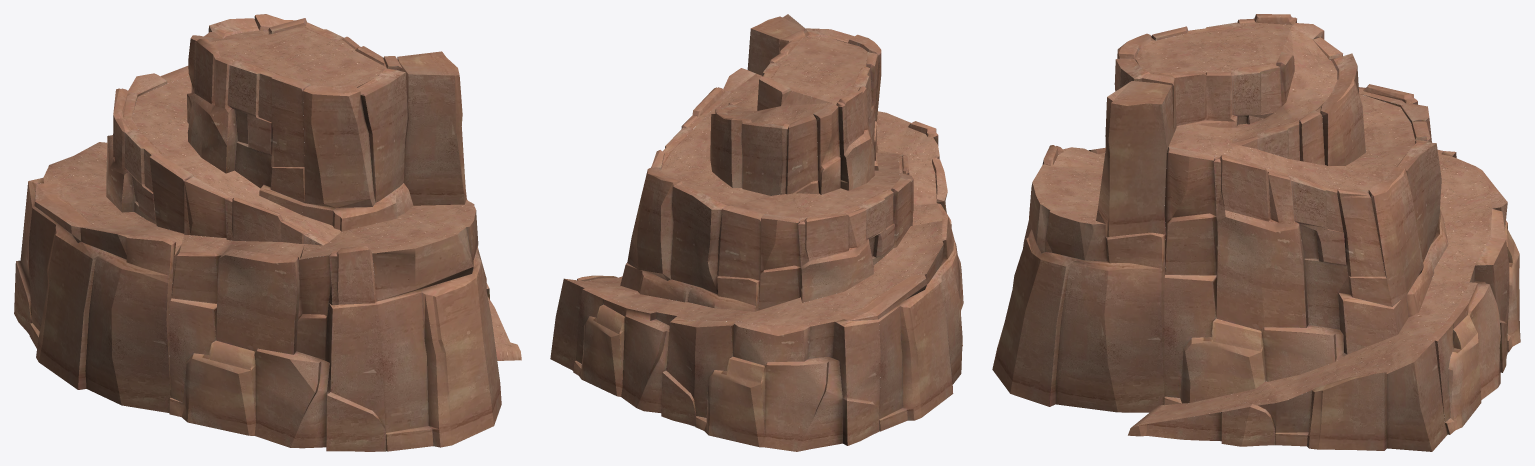
The picture shows the model from 3 angles, left to right: view 1: azimuth 30°, elevation 25°; view 2: azimuth 150°, elevation 25°; view 3: azimuth 270°, elevation 25°; orthographic projection. The views are drawn at different scales.
Parts seen in each view (by area): view 1: body0_model0_lod0_mesh1, body0_model0_lod0_mesh0, body0_model0_lod0_mesh2; view 2: body0_model0_lod0_mesh0, body0_model0_lod0_mesh1, body0_model0_lod0_mesh2; view 3: body0_model0_lod0_mesh0, body0_model0_lod0_mesh1, body0_model0_lod0_mesh2.
Boxes of the visible parts, x1,y1,x2,y2 form: body0_model0_lod0_mesh1: [29, 14, 501, 451]; body0_model0_lod0_mesh0: [14, 18, 489, 451]; body0_model0_lod0_mesh2: [43, 25, 521, 360]; body0_model0_lod0_mesh0: [573, 37, 963, 451]; body0_model0_lod0_mesh1: [550, 14, 962, 431]; body0_model0_lod0_mesh2: [564, 36, 943, 326]; body0_model0_lod0_mesh0: [1042, 14, 1520, 446]; body0_model0_lod0_mesh1: [992, 33, 1448, 451]; body0_model0_lod0_mesh2: [1032, 22, 1492, 427].
Bounding box in the file's own units: 654 × 498 × 773.
Materials: 3 (3 with a texture image).
